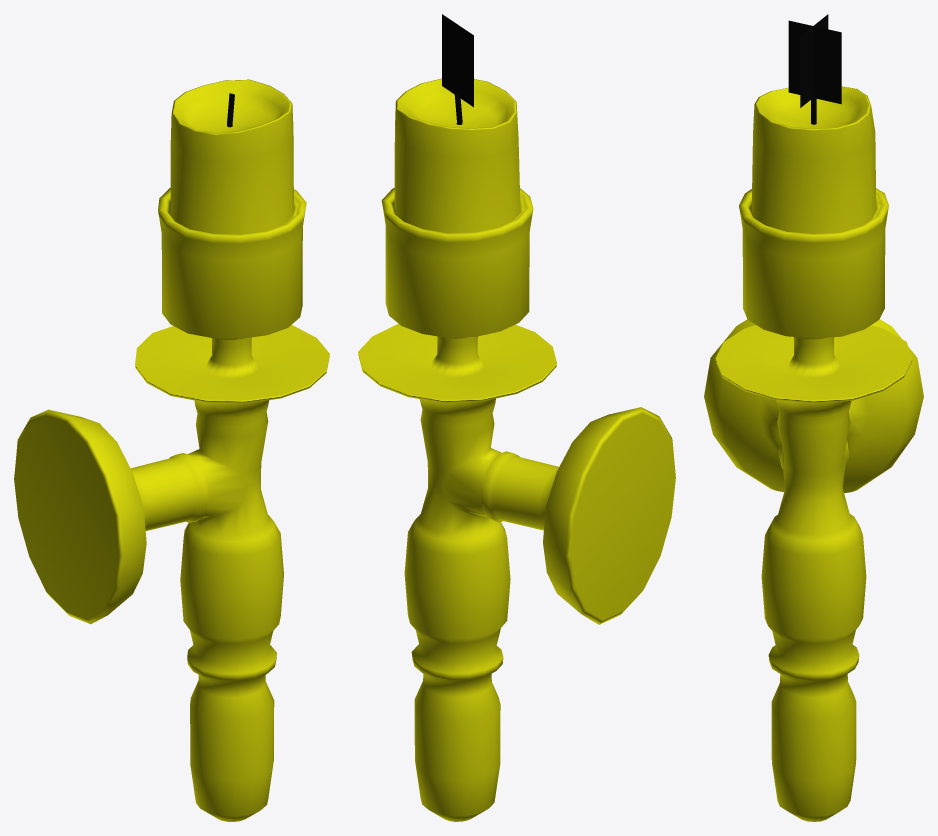
Rendered from candle2.obj.
3 views of the same model, side by side, from view 1: azimuth 30°, elevation 25°; view 2: azimuth 150°, elevation 25°; view 3: azimuth 270°, elevation 25° (orthographic).
Parts seen in each view (by area): view 1: Cylinder.001; view 2: Cylinder.001, flame; view 3: Cylinder.001, flame.
Part boxes in pixels (x1,y1,x2,y2): Cylinder.001: [14, 79, 329, 821]; Cylinder.001: [358, 78, 675, 821]; flame: [442, 14, 473, 107]; Cylinder.001: [704, 86, 923, 821]; flame: [788, 14, 841, 107].
Bounding box in the file's own units: 0.2041 × 0.6119 × 0.1536.
